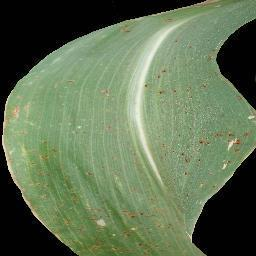Corn_Common_Rust: (36, 203, 207, 256), (0, 82, 36, 216), (169, 130, 256, 169), (203, 37, 229, 87), (36, 138, 57, 168), (157, 84, 193, 101), (237, 93, 256, 123), (179, 0, 223, 11), (115, 18, 139, 35), (97, 83, 117, 102), (162, 8, 178, 26), (152, 65, 169, 81), (100, 120, 115, 135), (187, 41, 196, 53), (170, 34, 178, 44), (142, 82, 150, 91)
